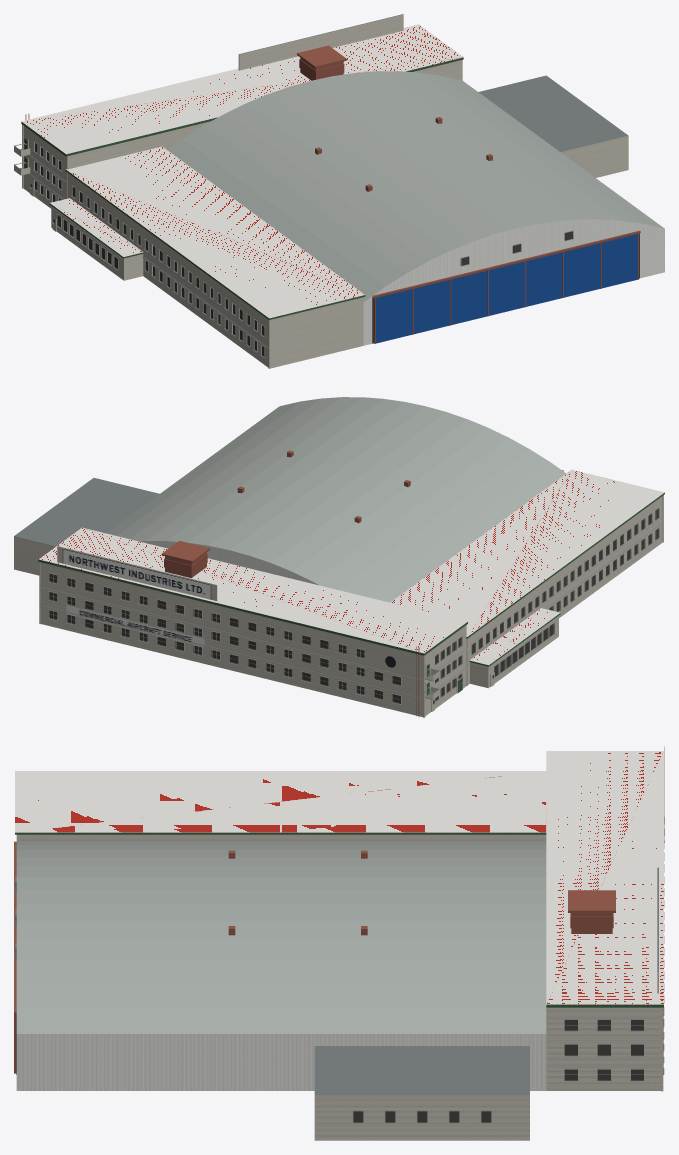
Rendered from cyxd_hangar11_lod1.gltf.
3 views of the same model, one above another, from view 1: azimuth 30°, elevation 25°; view 2: azimuth 150°, elevation 25°; view 3: azimuth 270°, elevation 25° (orthographic). The views are drawn at different scales.
Visible parts, largest first — view 1: cyxd_hangar11; view 2: cyxd_hangar11; view 3: cyxd_hangar11.
Boxes of the visible parts, x1,y1,x2,y2 form: cyxd_hangar11: (14, 14, 664, 368); cyxd_hangar11: (14, 397, 664, 717); cyxd_hangar11: (14, 747, 664, 1140).
Bounding box in the file's own units: 90.44 × 14.9 × 78.64.
